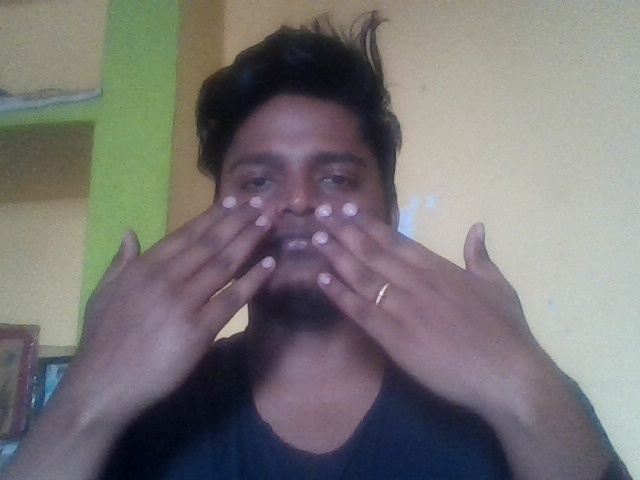thanks: (76, 180, 624, 431)
